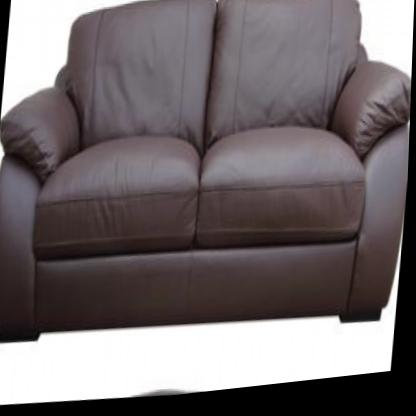Sofa: (0, 0, 416, 373)
